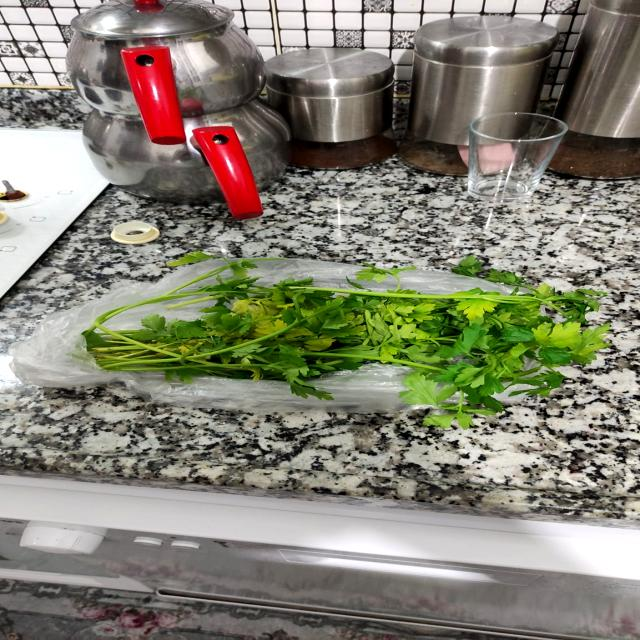parsley: (65, 252, 612, 427)
